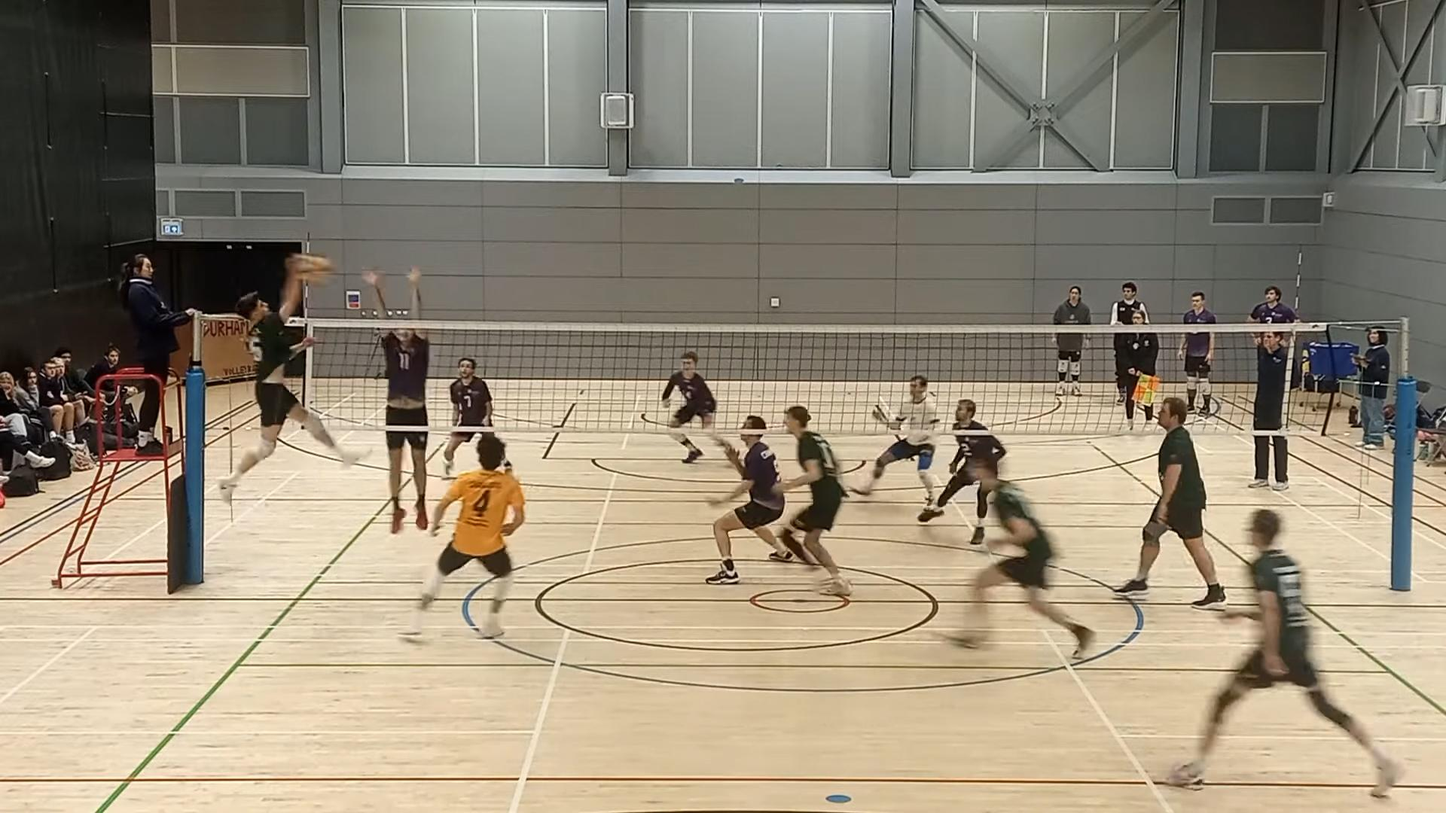Attack: (216, 262, 322, 511)
Block: (360, 252, 442, 531)
Player: (1167, 509, 1400, 797), (949, 456, 1094, 659), (402, 434, 524, 638), (1115, 397, 1225, 609), (705, 416, 795, 584), (775, 405, 851, 595), (917, 399, 1005, 544), (853, 375, 939, 507), (660, 351, 716, 463), (449, 357, 492, 427)
